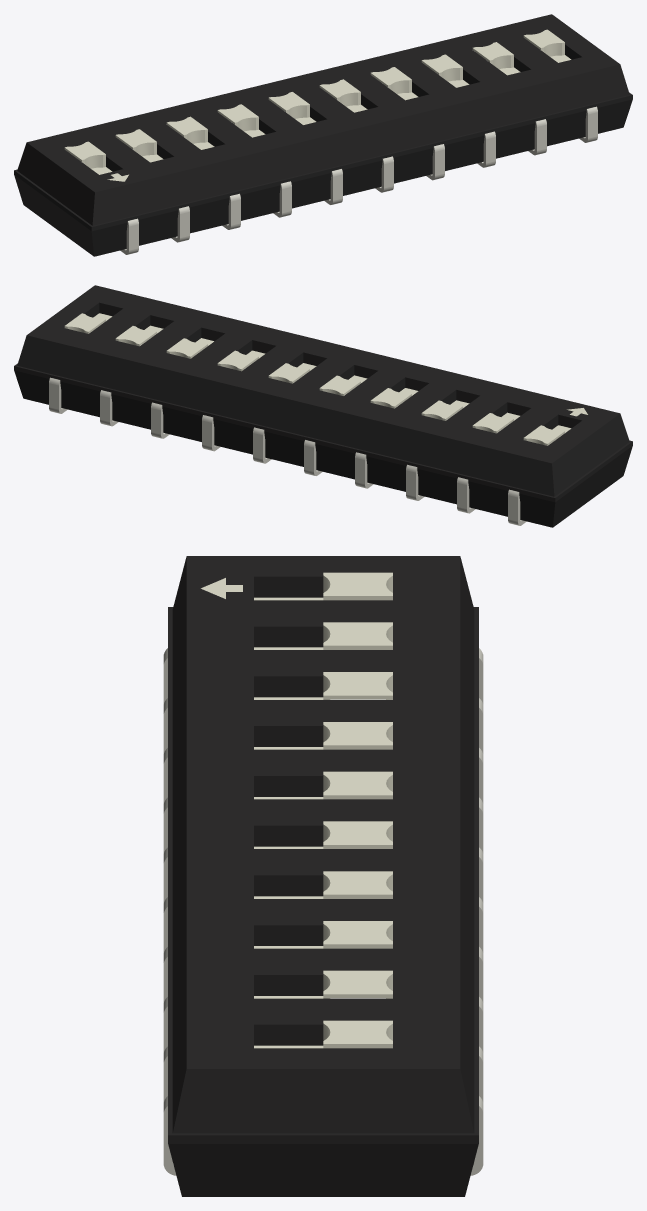
Rendered from kc-sw_dip_spstx10_slide_6.7x26.96mm_w6.73mm_p2.54mm_lowprofile_jpin.glb.
3 views of the same model, one above another, from view 1: azimuth 30°, elevation 25°; view 2: azimuth 150°, elevation 25°; view 3: azimuth 270°, elevation 25° (orthographic). The views are drawn at different scales.
Visible parts, largest first — view 1: 0_0_0_0, 0.75_0.75_0.6666666666666666_0, 0.6666666666666666_0.6666666666666666_0.5833333333333334_0.8; view 2: 0_0_0_0, 0.75_0.75_0.6666666666666666_0, 0.6666666666666666_0.6666666666666666_0.5833333333333334_0.8; view 3: 0_0_0_0, 0.75_0.75_0.6666666666666666_0, 0.6666666666666666_0.6666666666666666_0.5833333333333334_0.8.
Part boxes in pixels (<box>): 0_0_0_0: <box>14,14,632,256</box>; 0.75_0.75_0.6666666666666666_0: <box>64,29,571,181</box>; 0.6666666666666666_0.6666666666666666_0.5833333333333334_0.8: <box>120,106,597,254</box>; 0_0_0_0: <box>14,285,632,527</box>; 0.75_0.75_0.6666666666666666_0: <box>64,313,587,445</box>; 0.6666666666666666_0.6666666666666666_0.5833333333333334_0.8: <box>49,377,526,525</box>; 0_0_0_0: <box>168,556,478,1196</box>; 0.75_0.75_0.6666666666666666_0: <box>201,572,392,1048</box>; 0.6666666666666666_0.6666666666666666_0.5833333333333334_0.8: <box>163,648,483,1175</box>.
Bounding box in the file's own units: 2.7 × 0.33 × 0.6899.
